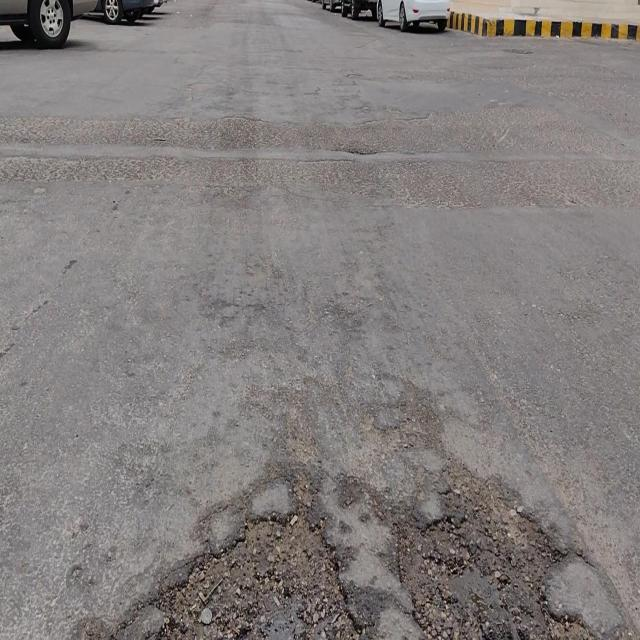Pothole: (398, 463, 598, 638), (142, 497, 368, 640)
